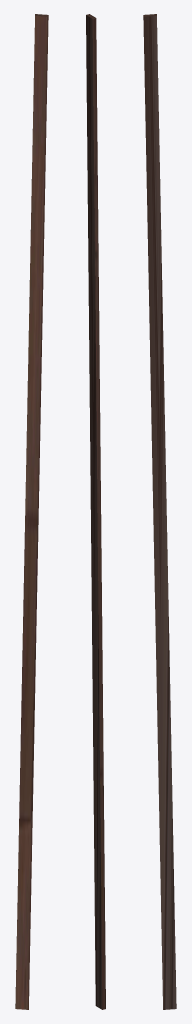
File: woodBlock2 (50).fbx
The picture shows the model from 3 angles, left to right: view 1: azimuth 90°, elevation 25°; view 2: azimuth 210°, elevation 25°; view 3: azimuth 270°, elevation 25°; orthographic projection.
Parts seen in each view (by area): view 1: woodBlock2 (50); view 2: woodBlock2 (50); view 3: woodBlock2 (50).
Part boxes in pixels (box(x1,y1,x2,y2)): woodBlock2 (50): box(15, 14, 48, 1009); woodBlock2 (50): box(86, 14, 105, 1009); woodBlock2 (50): box(143, 14, 176, 1009).
Bounding box in the file's own units: 0.1278 × 33 × 0.997.
